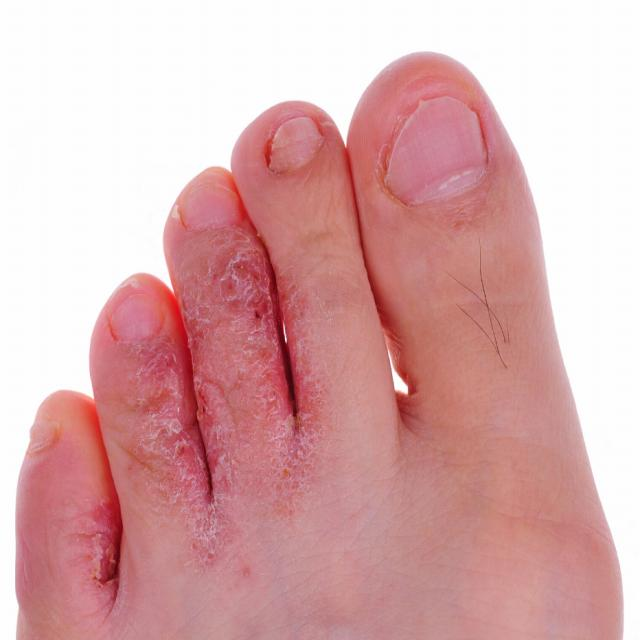tinea: (17, 88, 627, 613)
